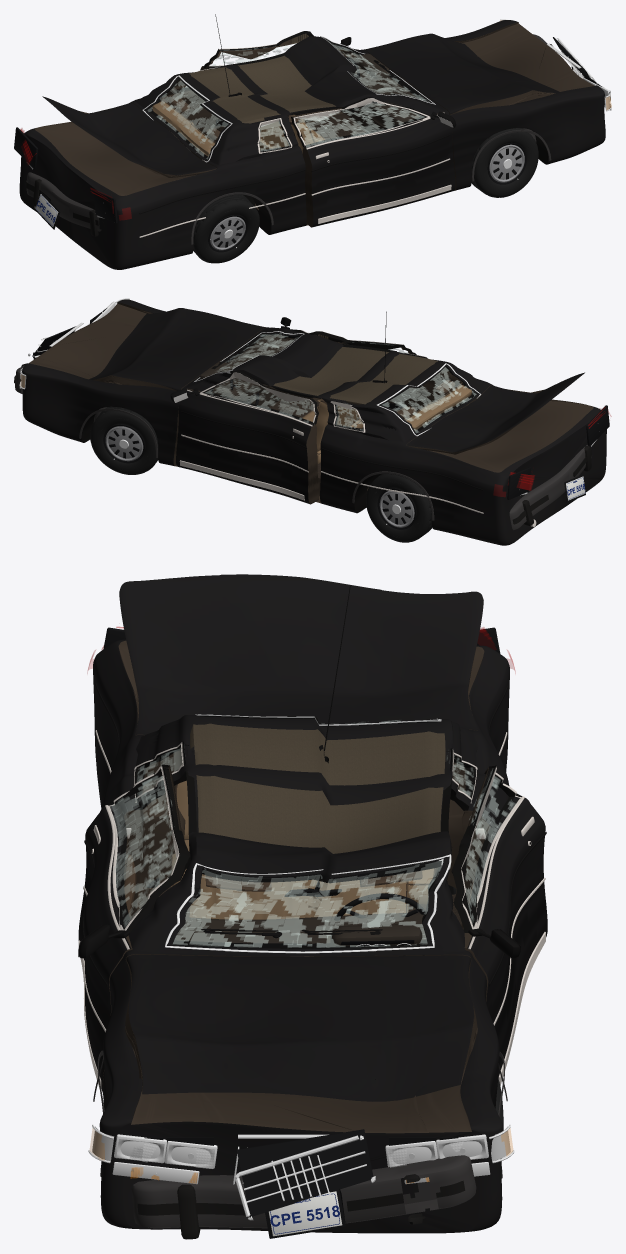
File: coupe84_roll_d1.glb
3 renders of one model, top to bottom at view 1: azimuth 30°, elevation 25°; view 2: azimuth 150°, elevation 25°; view 3: azimuth 270°, elevation 25°, orthographic. The views are drawn at different scales.
Visible parts, largest first — view 1: Body, Door_FR, Hood, Trunk, Interior, Glass, Wheel_FR_mesh, Wheel_RR_mesh, Trim_FR, Ends, Glass_FR, Trim (+3 smaller); view 2: Body, Door_FL, Hood, Trunk, Interior, Glass, Wheel_FL_mesh, Wheel_RL_mesh, Trim_FL, Ends, Bumper_R, Trim (+3 smaller); view 3: Body, Trunk, Hood, Ends, Glass, Interior, Door_FL, Bumper_F, Door_FR, Glass_FR, Trim_FL, Trim_FR (+3 smaller).
Boxes of the visible parts, box(x1,y1,x2,y2) form: Body: box(19, 20, 605, 269); Door_FR: box(291, 97, 455, 227); Hood: box(364, 33, 559, 114); Trunk: box(42, 96, 216, 177); Interior: box(152, 53, 421, 156); Glass: box(142, 36, 435, 162); Wheel_FR_mesh: box(471, 128, 538, 197); Wheel_RR_mesh: box(193, 194, 259, 263); Trim_FR: box(293, 98, 456, 223); Ends: box(14, 19, 611, 229); Glass_FR: box(293, 98, 426, 149); Trim: box(139, 14, 551, 244); Body: box(22, 299, 606, 545); Door_FL: box(176, 371, 319, 504); Hood: box(89, 308, 265, 391); Trunk: box(406, 372, 584, 454); Interior: box(200, 335, 471, 463); Glass: box(194, 331, 481, 436); Wheel_FL_mesh: box(90, 406, 158, 474); Wheel_RL_mesh: box(366, 474, 432, 542); Trim_FL: box(170, 372, 316, 500); Ends: box(19, 298, 609, 502); Bumper_R: box(509, 445, 594, 530); Trim: box(79, 311, 483, 520); Body: box(93, 639, 509, 1233); Trunk: box(119, 574, 483, 735); Hood: box(125, 954, 477, 1101); Ends: box(88, 627, 514, 1238); Glass: box(134, 714, 473, 953); Interior: box(171, 780, 435, 946); Door_FL: box(451, 765, 547, 1077); Bumper_F: box(131, 1155, 476, 1239); Door_FR: box(78, 764, 190, 1091); Glass_FR: box(108, 766, 180, 927); Trim_FL: box(461, 766, 546, 1085); Trim_FR: box(78, 765, 179, 1088).
Size of the model in its own units: 5.35 by 1.87 by 2.03.
Materials: 34 (5 with a texture image).
